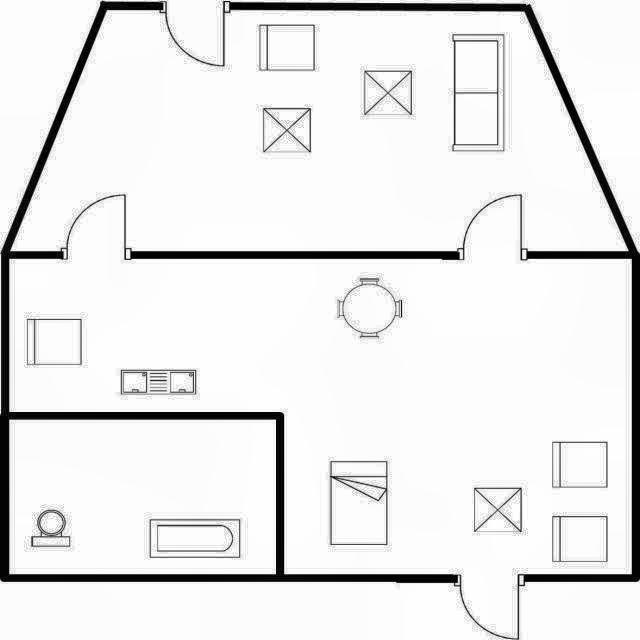room: (10, 259, 633, 575), (13, 10, 629, 251), (9, 420, 276, 573)
